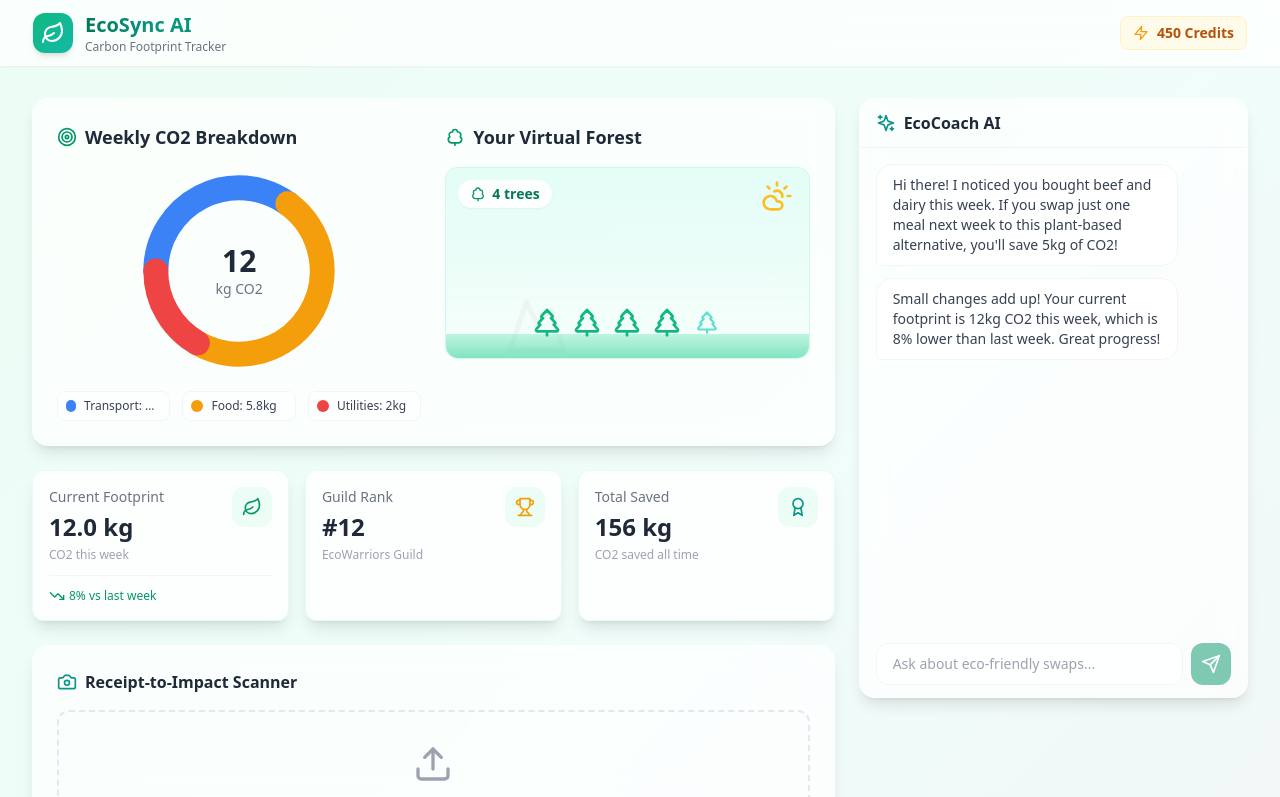
Test: AI Chatbot Input Validation › send button is enabled when input has content
Type "Hello" into the field with test id "chat-input".
click(1029, 664); type("Hello")  # box [876,643,1183,685]
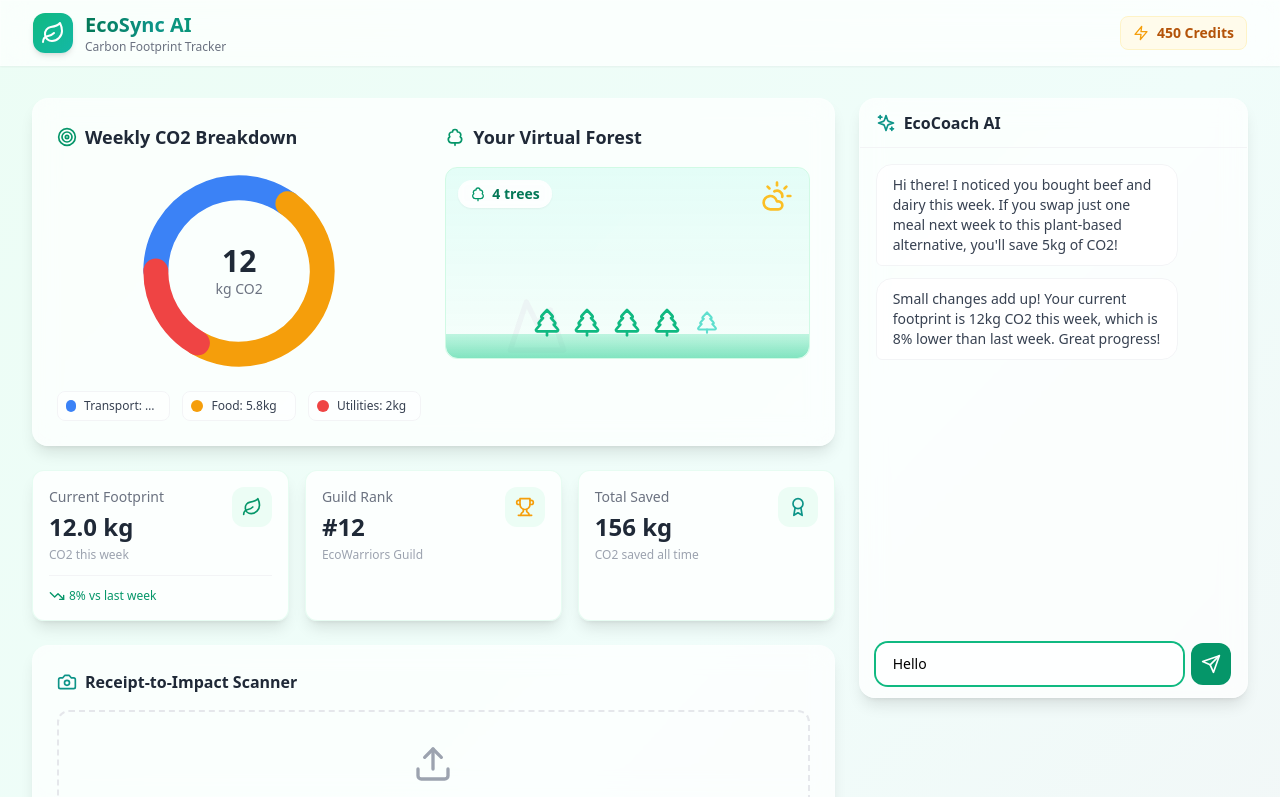
Expected: the button with test id "send-button" is enabled, [1191,643,1231,685]
